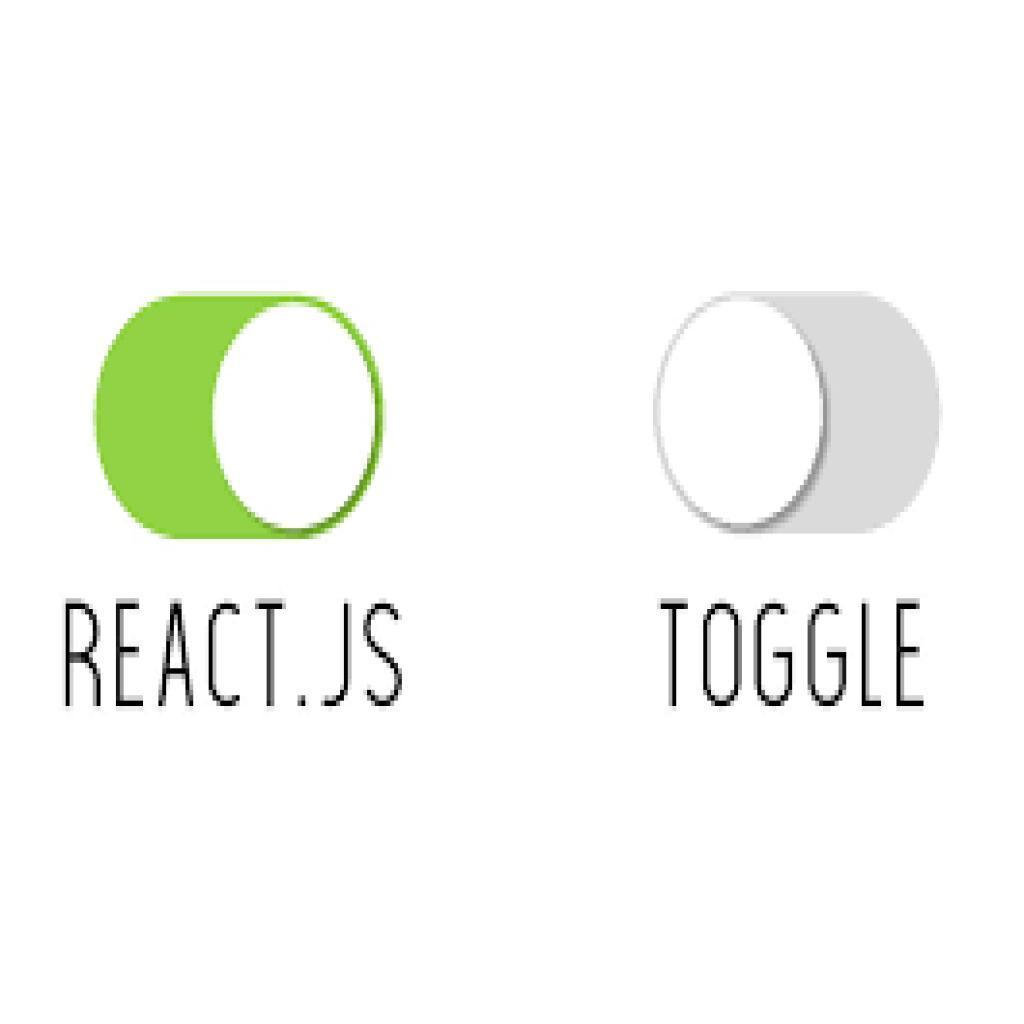switch: (650, 289, 943, 538), (94, 295, 383, 540)
